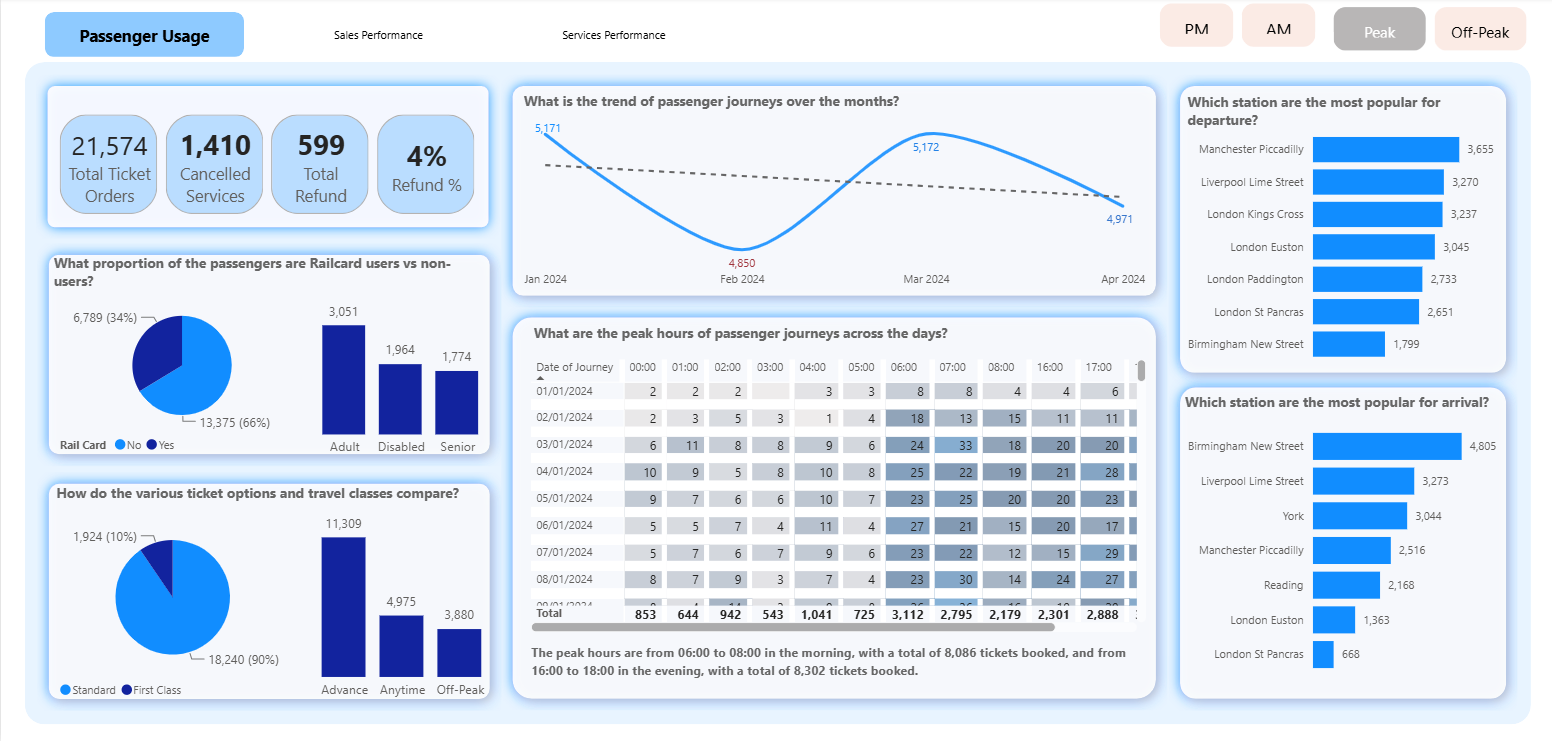

Layout of this report page (visuals, bound fields, positions):
{"tool":"powerbi","page":{"name":"Page 1","canvas":[1500,720],"ordinal":0},"visuals":[{"type":"shape","box":[22.9,62.7,1453.8,639.4],"z":0},{"type":"shape","box":[1126.4,365.2,337.1,323],"z":1000},{"type":"shape","box":[1126.4,74.4,337.1,299.2],"z":2000},{"type":"shape","box":[483.1,74.4,643.3,224.7],"z":3000},{"type":"shape","box":[483.1,297.8,643.3,390.4],"z":4000},{"type":"pivotTable","fields":{"Columns":["Railway.Start of Hour"],"Rows":["Railway.Date of Journey Hierarchy.Date of Journey"],"Values":["Measure Table.Total Ticket Orders"]},"box":[506.7,345,603.2,272.7],"z":5000},{"type":"shape","box":[33.7,74.4,448,158.7],"z":6000},{"type":"shape","box":[34.4,238.1,448,214.9],"z":7000},{"type":"shape","box":[35.1,457.9,448,230.3],"z":8000},{"type":"lineChart","fields":{"Category":["Railway.Date of Journey.Variation.Date Hierarchy.Year","Railway.Date of Journey.Variation.Date Hierarchy.Quarter","Railway.Date of Journey.Variation.Date Hierarchy.Month","Railway.Date of Journey.Variation.Date Hierarchy.Day"],"Y":["Measure Table.Journey"]},"box":[499.5,108.6,610.5,181],"z":12000},{"type":"pieChart","fields":{"Category":["Railway.Has Rail Card"],"Y":["Measure Table.Journey"]},"box":[51.9,288.3,246.1,161.7],"z":13000},{"type":"columnChart","fields":{"Category":["Railway.Railcard"],"Y":["Measure Table.Journey"]},"box":[283.5,270.2,206.3,182.2],"z":14000},{"type":"pieChart","fields":{"Category":["Railway.Ticket Class"],"Y":["Measure Table.Journey"]},"box":[51.9,499.5,228,187],"z":15000},{"type":"columnChart","fields":{"Category":["Railway.Ticket Type"],"Y":["Measure Table.Journey"]},"box":[282.3,483.8,211.1,202.7],"z":16000},{"type":"barChart","fields":{"Category":["Railway.Departure Station"],"Y":["Measure Table.Total Ticket Orders"]},"box":[1130.4,109.8,316.1,255.8],"z":18000},{"type":"cardVisual","fields":{"Data":["Measure Table.Total Ticket Orders","Measure Table.Cancelled Services","Measure Table.Total Refund","Measure Table.Refund %"]},"box":[52,108.1,411.5,106.7],"z":20000},{"type":"barChart","fields":{"Category":["Railway.Arrival Destination"],"Y":["Measure Table.Total Ticket Orders"]},"box":[1130.6,394.7,320.2,272.5],"z":21000},{"type":"actionButton","box":[494.4,14,193.8,43.5],"z":22000},{"type":"actionButton","box":[268,14,193,43.5],"z":23000},{"type":"actionButton","box":[42.1,14,192.4,43.5],"z":24000},{"type":"advancedSlicerVisual","fields":{"Values":["Railway.Period"]},"box":[1281.6,5.1,196.1,52.6],"z":25000},{"type":"advancedSlicerVisual","fields":{"Values":["Railway.AM/PM"]},"box":[1113.2,1.3,161.8,52.6],"z":26000},{"type":"textbox","title":"What proportion of the passengers are Railcard users versus non-users?","box":[45.8,242.5,411.4,45.8],"z":27000},{"type":"textbox","title":"What proportion of the passengers are Railcard users versus non-users?","box":[48.3,464.5,411.4,45.8],"z":28000},{"type":"textbox","title":"What proportion of the passengers are Railcard users versus non-users?","box":[499.5,85.7,411.4,45.8],"z":29000},{"type":"textbox","title":"What proportion of the passengers are Railcard users versus non-users?","box":[509.1,310.1,434.3,45.8],"z":30000},{"type":"textbox","title":"What proportion of the passengers are Railcard users versus non-users?","box":[1140.1,86.9,319.7,45.8],"z":31000},{"type":"textbox","title":"What proportion of the passengers are Railcard users versus non-users?","box":[1137.7,376.4,319.7,45.8],"z":32000},{"type":"textbox","title":"What proportion of the passengers are Railcard users versus non-users?","box":[506.7,617.7,606.8,45.8],"z":33000}]}

Visuals, with their boxes in screenshot pixels (x1, y1, x2, y2), scaled from the page's 1500x720 canvas onto the 1552x741 screenshot:
shape: <bbox>24, 65, 1528, 723</bbox>
shape: <bbox>1165, 376, 1514, 708</bbox>
shape: <bbox>1165, 77, 1514, 384</bbox>
shape: <bbox>500, 77, 1165, 308</bbox>
shape: <bbox>500, 306, 1165, 708</bbox>
pivotTable - Railway.Start of Hour x Railway.Date of Journey Hierarchy.Date of Journey: <bbox>524, 355, 1148, 636</bbox>
shape: <bbox>35, 77, 498, 240</bbox>
shape: <bbox>36, 245, 499, 466</bbox>
shape: <bbox>36, 471, 500, 708</bbox>
lineChart - Railway.Date of Journey.Variation.Date Hierarchy.Year x Railway.Date of Journey.Variation.Date Hierarchy.Quarter: <bbox>517, 112, 1148, 298</bbox>
pieChart - Railway.Has Rail Card x Measure Table.Journey: <bbox>54, 297, 308, 463</bbox>
columnChart - Railway.Railcard x Measure Table.Journey: <bbox>293, 278, 507, 466</bbox>
pieChart - Railway.Ticket Class x Measure Table.Journey: <bbox>54, 514, 290, 707</bbox>
columnChart - Railway.Ticket Type x Measure Table.Journey: <bbox>292, 498, 511, 707</bbox>
barChart - Railway.Departure Station x Measure Table.Total Ticket Orders: <bbox>1170, 113, 1497, 376</bbox>
cardVisual - Measure Table.Total Ticket Orders x Measure Table.Cancelled Services: <bbox>54, 111, 480, 221</bbox>
barChart - Railway.Arrival Destination x Measure Table.Total Ticket Orders: <bbox>1170, 406, 1501, 687</bbox>
actionButton: <bbox>512, 14, 712, 59</bbox>
actionButton: <bbox>277, 14, 477, 59</bbox>
actionButton: <bbox>44, 14, 243, 59</bbox>
advancedSlicerVisual - Railway.Period: <bbox>1326, 5, 1529, 59</bbox>
advancedSlicerVisual - Railway.AM/PM: <bbox>1152, 1, 1319, 55</bbox>
"What proportion of the passengers are Railcard users versus non-users?" textbox: <bbox>47, 250, 473, 297</bbox>
"What proportion of the passengers are Railcard users versus non-users?" textbox: <bbox>50, 478, 476, 525</bbox>
"What proportion of the passengers are Railcard users versus non-users?" textbox: <bbox>517, 88, 942, 135</bbox>
"What proportion of the passengers are Railcard users versus non-users?" textbox: <bbox>527, 319, 976, 366</bbox>
"What proportion of the passengers are Railcard users versus non-users?" textbox: <bbox>1180, 89, 1510, 137</bbox>
"What proportion of the passengers are Railcard users versus non-users?" textbox: <bbox>1177, 387, 1508, 435</bbox>
"What proportion of the passengers are Railcard users versus non-users?" textbox: <bbox>524, 636, 1152, 683</bbox>
